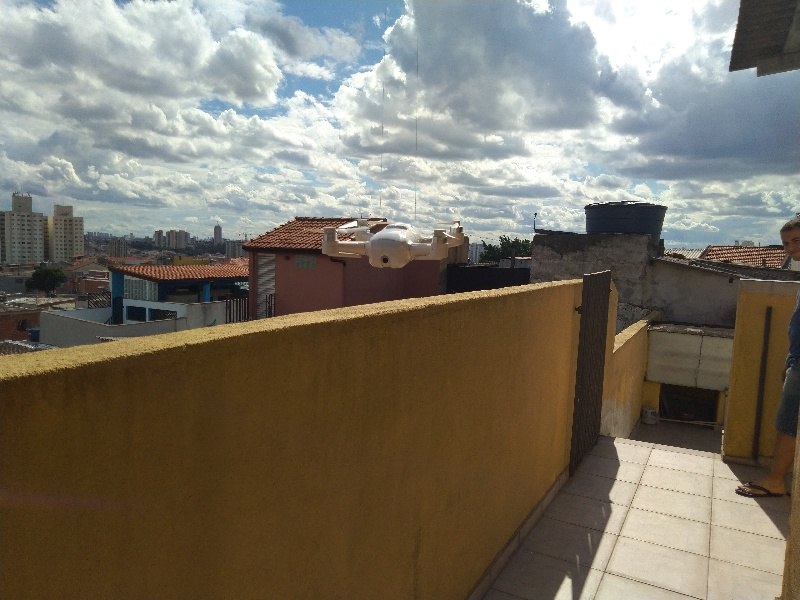drone: (320, 212, 469, 274)
